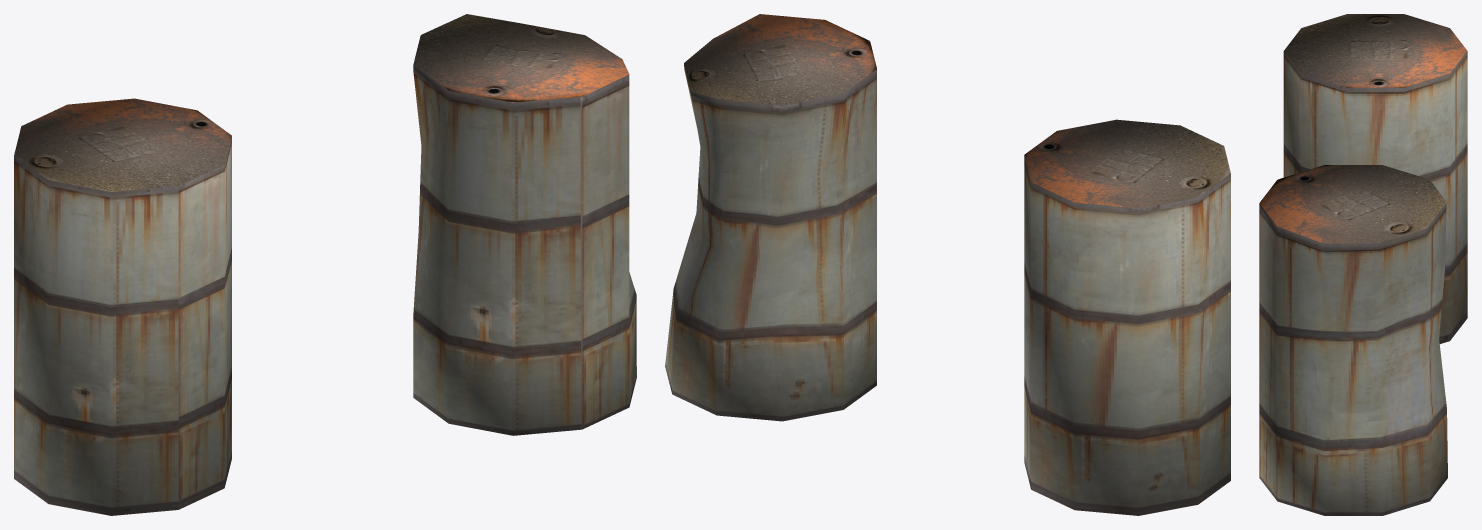
3 renders of one model, left to right at view 1: azimuth 30°, elevation 25°; view 2: azimuth 150°, elevation 25°; view 3: azimuth 270°, elevation 25°, orthographic. The views are drawn at different scales.
Parts seen in each view (by area): view 1: Cylinder.008_1, BARRIL.002_0; view 2: Cylinder.008_1, BARRIL.002_0; view 3: BARRIL.002_0, Cylinder.008_1.
Part boxes in pixels (x1,y1,x2,y2): Cylinder.008_1: (14,98,231,515); BARRIL.002_0: (413,14,636,435); Cylinder.008_1: (1024,119,1230,515); BARRIL.002_0: (665,14,876,421); BARRIL.002_0: (1259,165,1447,515); Cylinder.008_1: (1283,14,1467,343).
Bounding box in the file's own units: 1.1 × 0.611 × 0.4191.
Materials: 2 (2 with a texture image).
